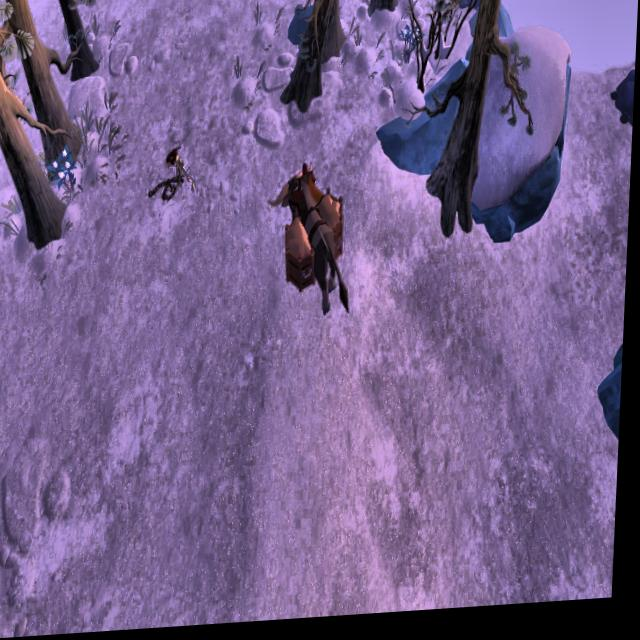enemy_factionUndead: (169, 144, 201, 200)
fiber_t4: (48, 144, 81, 192)
